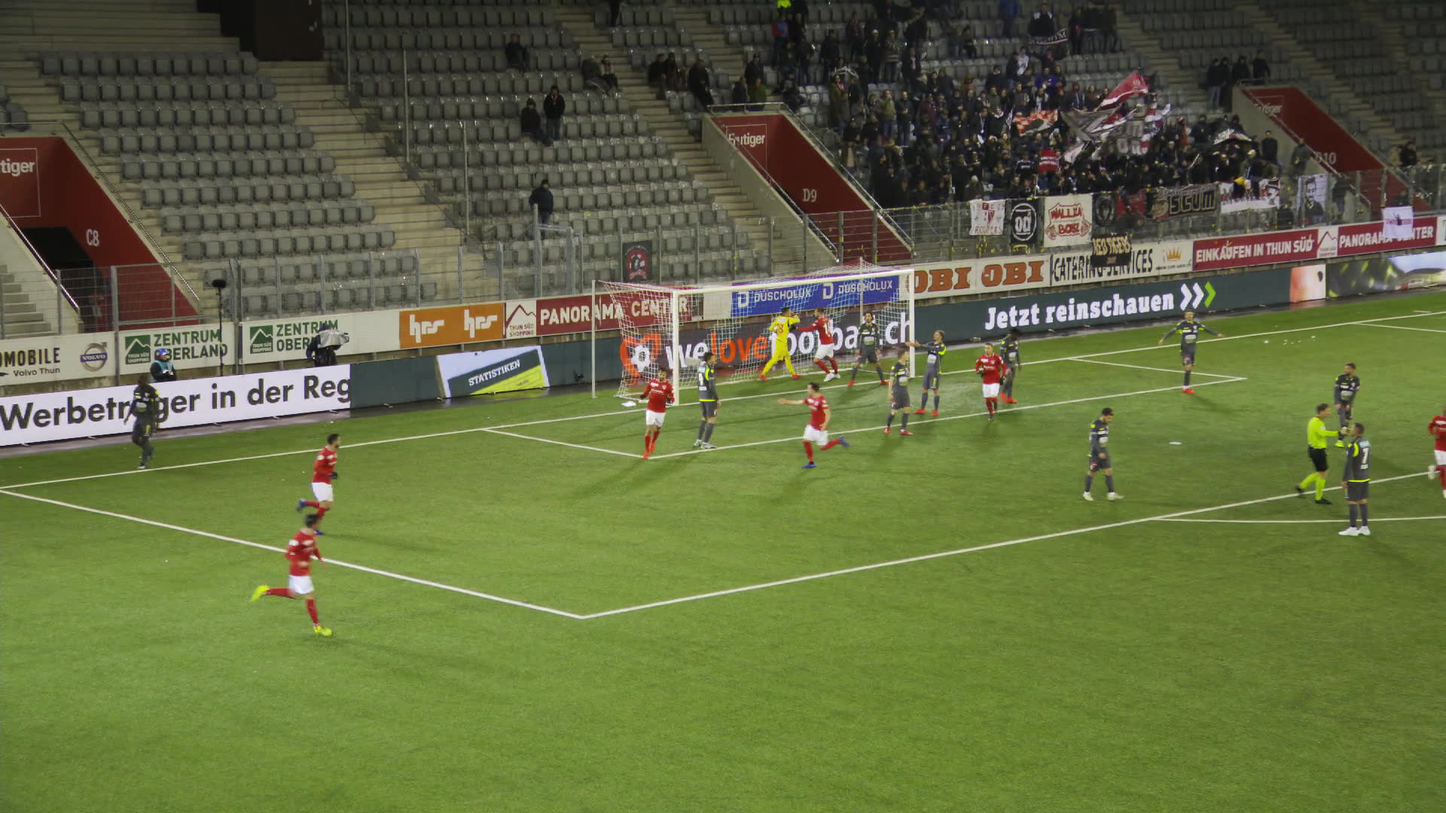player: (249, 511, 320, 637), (780, 377, 854, 470), (282, 427, 342, 538), (1152, 309, 1218, 397), (1331, 422, 1371, 537), (125, 372, 171, 470), (900, 330, 946, 419), (1076, 406, 1117, 504), (790, 306, 841, 384), (761, 306, 809, 383), (843, 311, 889, 391), (636, 368, 674, 461), (689, 351, 721, 450), (880, 349, 914, 437), (971, 340, 1004, 426), (1328, 361, 1360, 444), (993, 325, 1022, 406), (1419, 407, 1445, 477)
referee: (1283, 402, 1344, 508)
